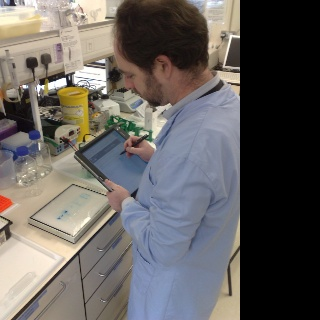without_mask: (112, 34, 166, 108)
